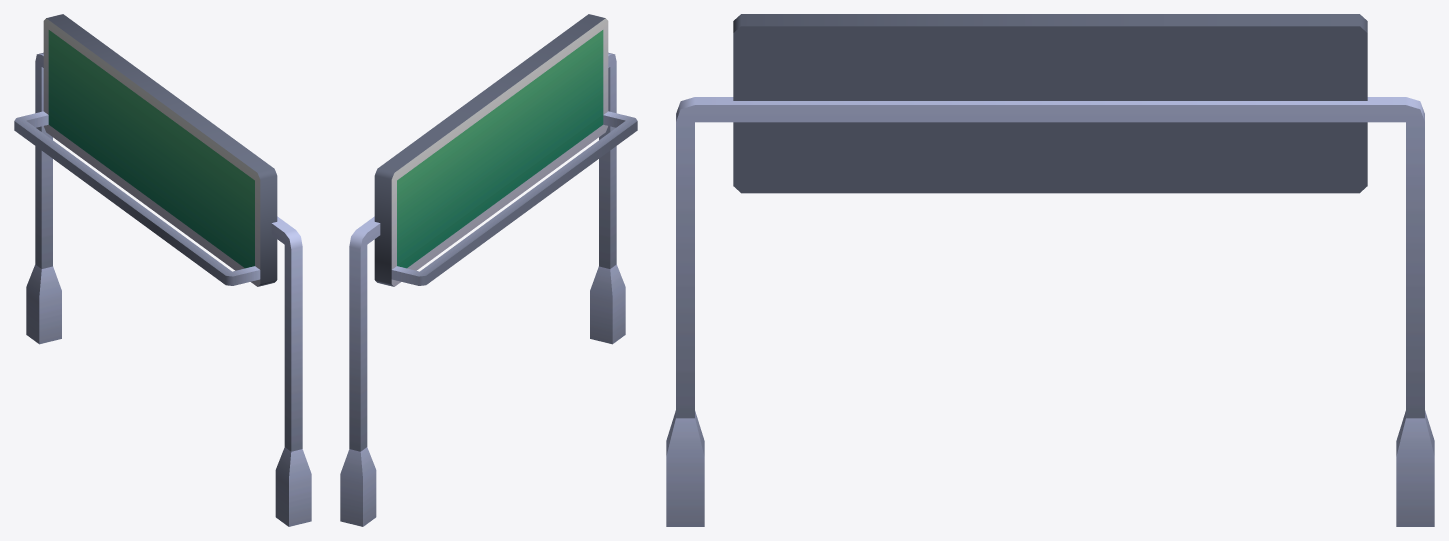
The model's file is sign-highway-wide.glb.
The picture shows the model from 3 angles, left to right: view 1: azimuth 30°, elevation 25°; view 2: azimuth 150°, elevation 25°; view 3: azimuth 270°, elevation 25°; orthographic projection. The views are drawn at different scales.
Parts seen in each view (by area): view 1: sign-highway-wide; view 2: sign-highway-wide; view 3: sign-highway-wide.
Part boxes in pixels (x1,y1,x2,y2): sign-highway-wide: (14,14,311,526); sign-highway-wide: (340,14,637,526); sign-highway-wide: (666,14,1434,526).
Bounding box in the file's own units: 0.1324 × 0.7074 × 1.
1 material, 1 textured.
